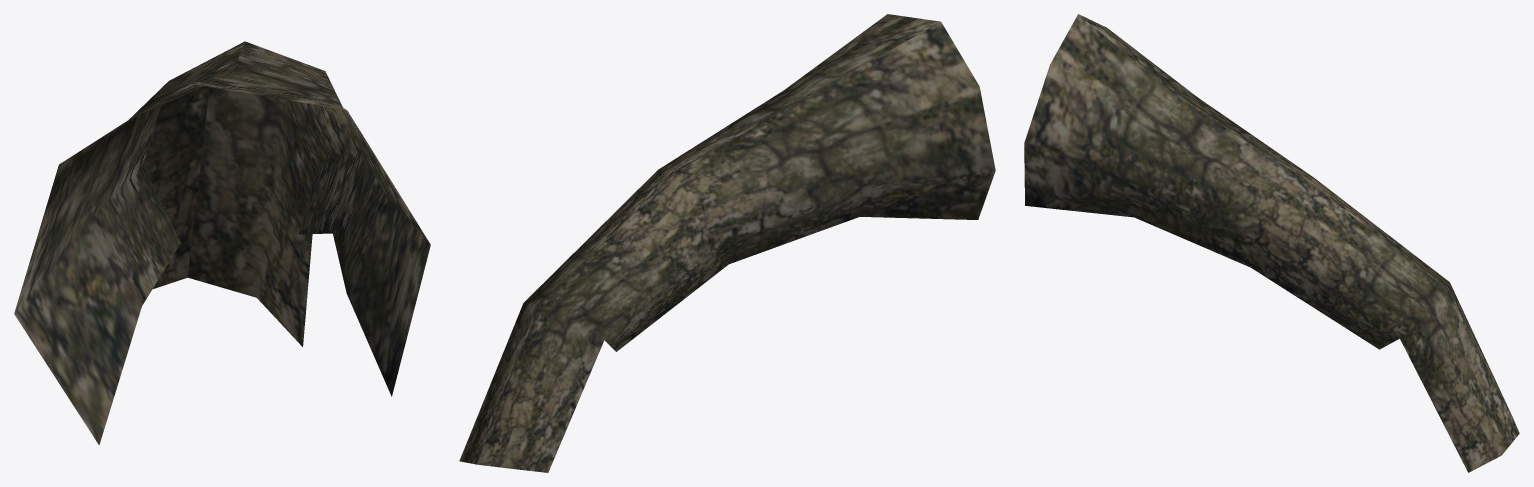
The model's file is EKH_ENTRANCE_PS_EN_LINE343.fbx.
3 views of the same model, side by side, from view 1: azimuth 30°, elevation 25°; view 2: azimuth 150°, elevation 25°; view 3: azimuth 270°, elevation 25° (orthographic). The views are drawn at different scales.
Visible parts, largest first — view 1: EKH_ENTRANCE_PS_EN_LINE343; view 2: EKH_ENTRANCE_PS_EN_LINE343; view 3: EKH_ENTRANCE_PS_EN_LINE343.
Part boxes in pixels (box(x1,y1,x2,y2)): EKH_ENTRANCE_PS_EN_LINE343: box(14, 41, 430, 444); EKH_ENTRANCE_PS_EN_LINE343: box(459, 14, 995, 472); EKH_ENTRANCE_PS_EN_LINE343: box(1024, 14, 1519, 472).
Bounding box in the file's own units: 34210 × 34176 × 45663.
Materials: 1 (1 with a texture image).
